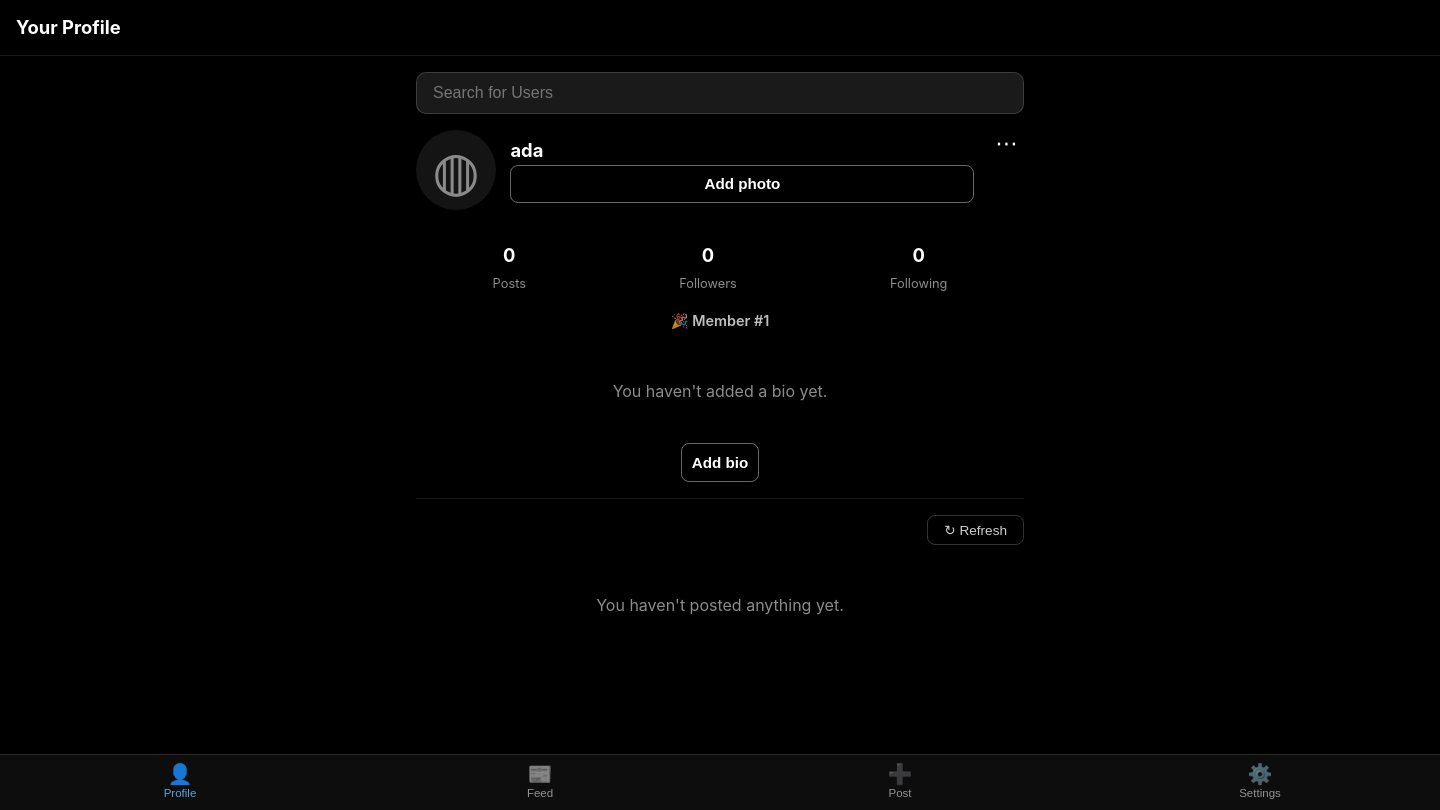
Test: switches to the Settings tab
Click the button "⚙️ Settings": (1260, 782) [1080,755,1439,809]
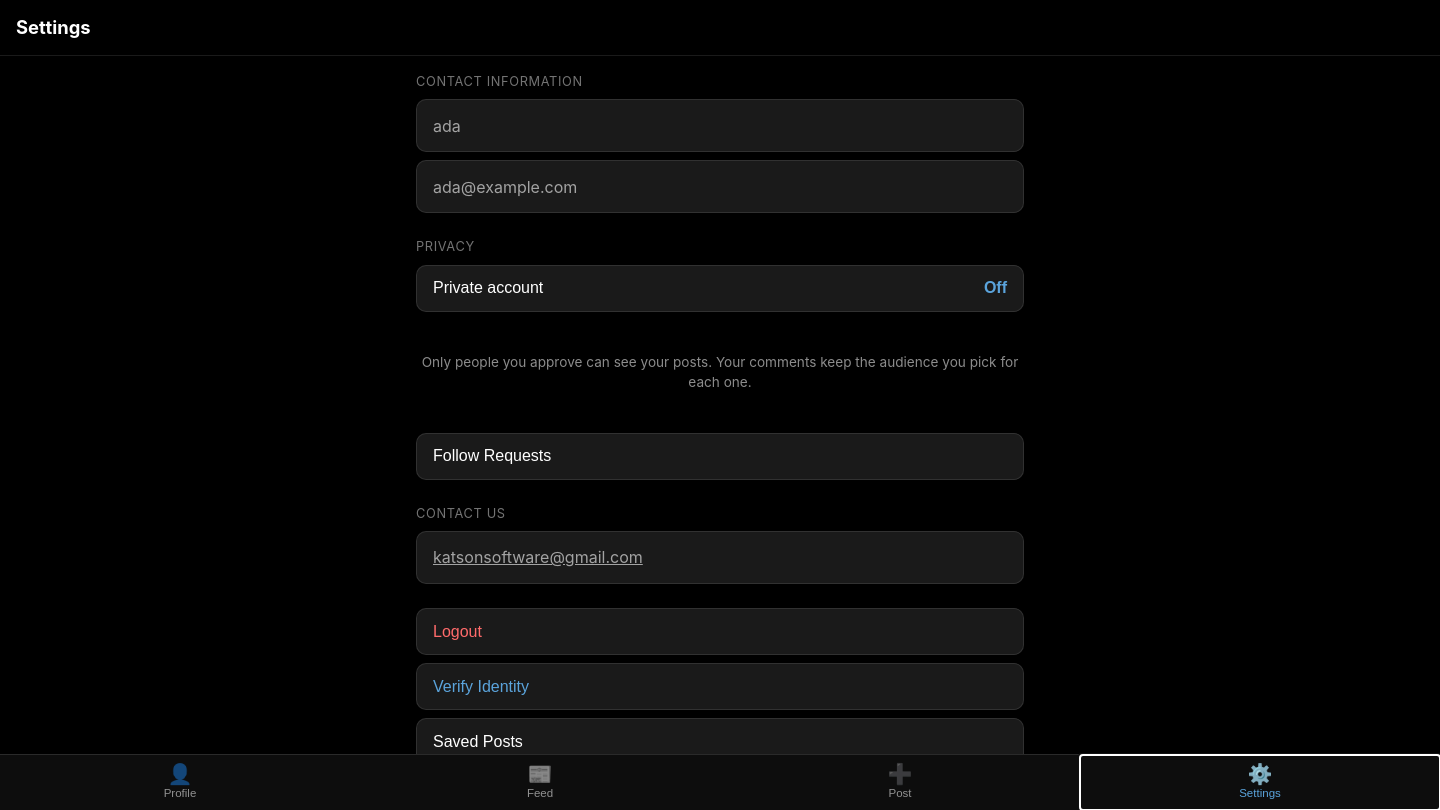
Result: the heading "Settings" is shown at [16,16,91,38]
Result: the button "Logout" is shown at [416,608,1024,655]
